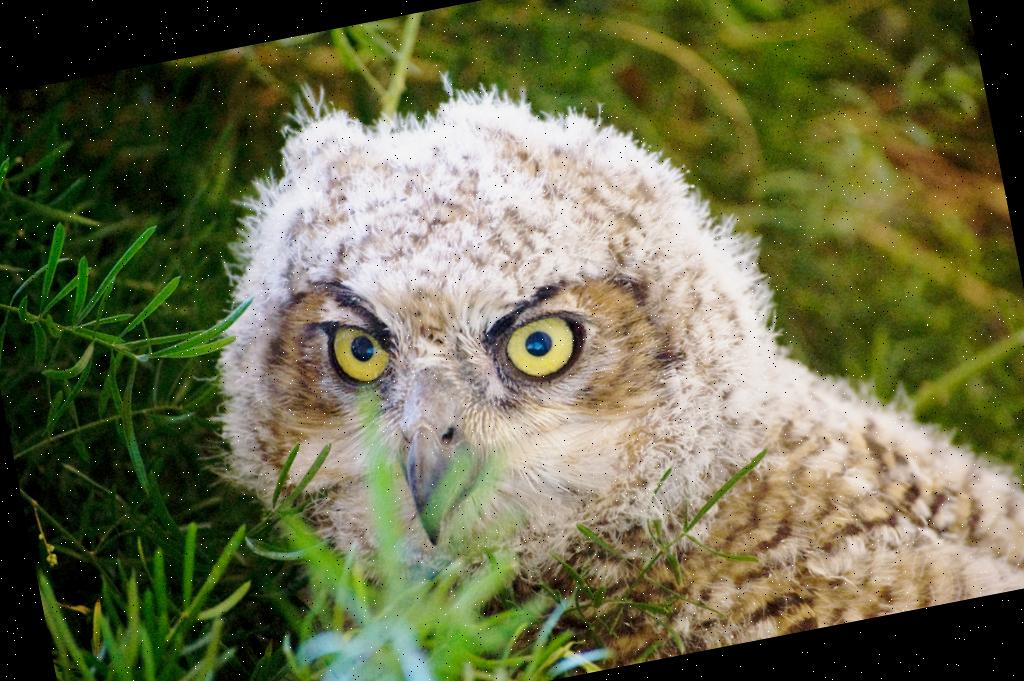Owl: (143, 0, 1024, 681)
